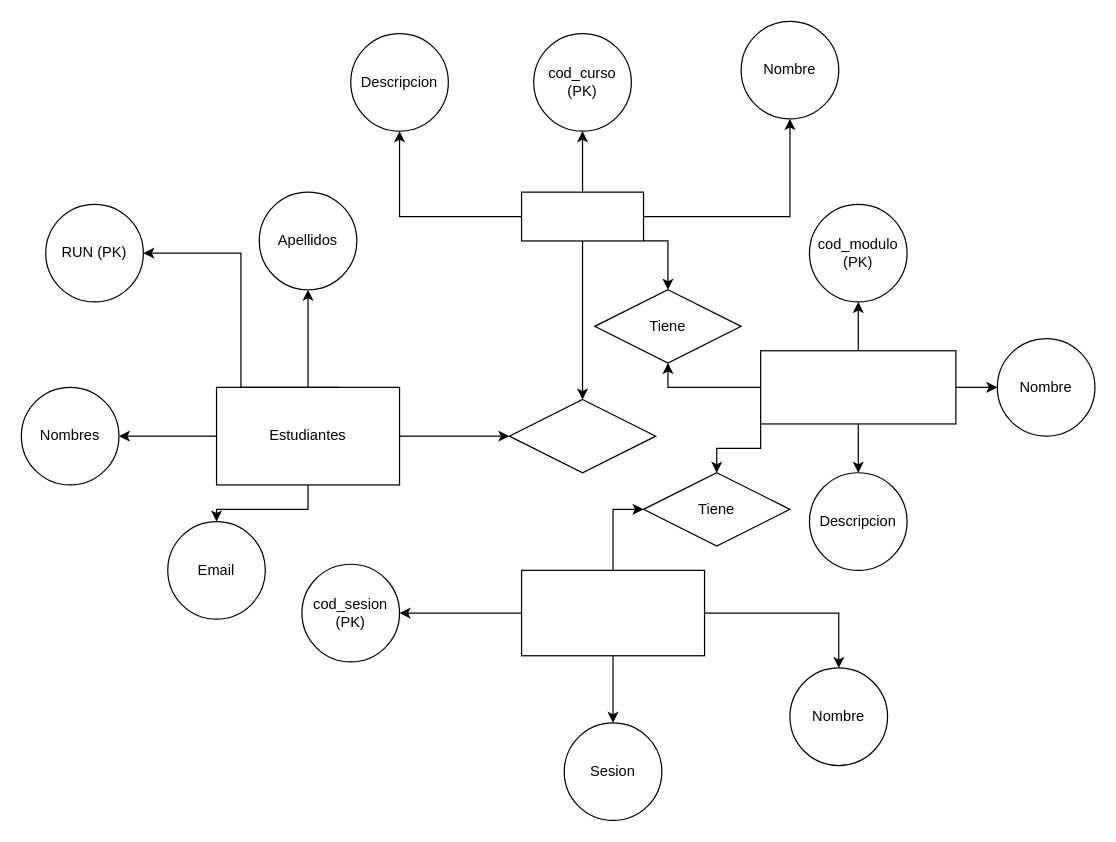
The diagram is 1116 pixels wide and 842 high, and some of its shapes have lost their labels. Here are the shapes that lost their labels. From the top down, the centre of each, then its label:
pixel 582 216: Curso
pixel 857 387: Modulos
pixel 582 435: Registra
pixel 612 612: Sesiones
